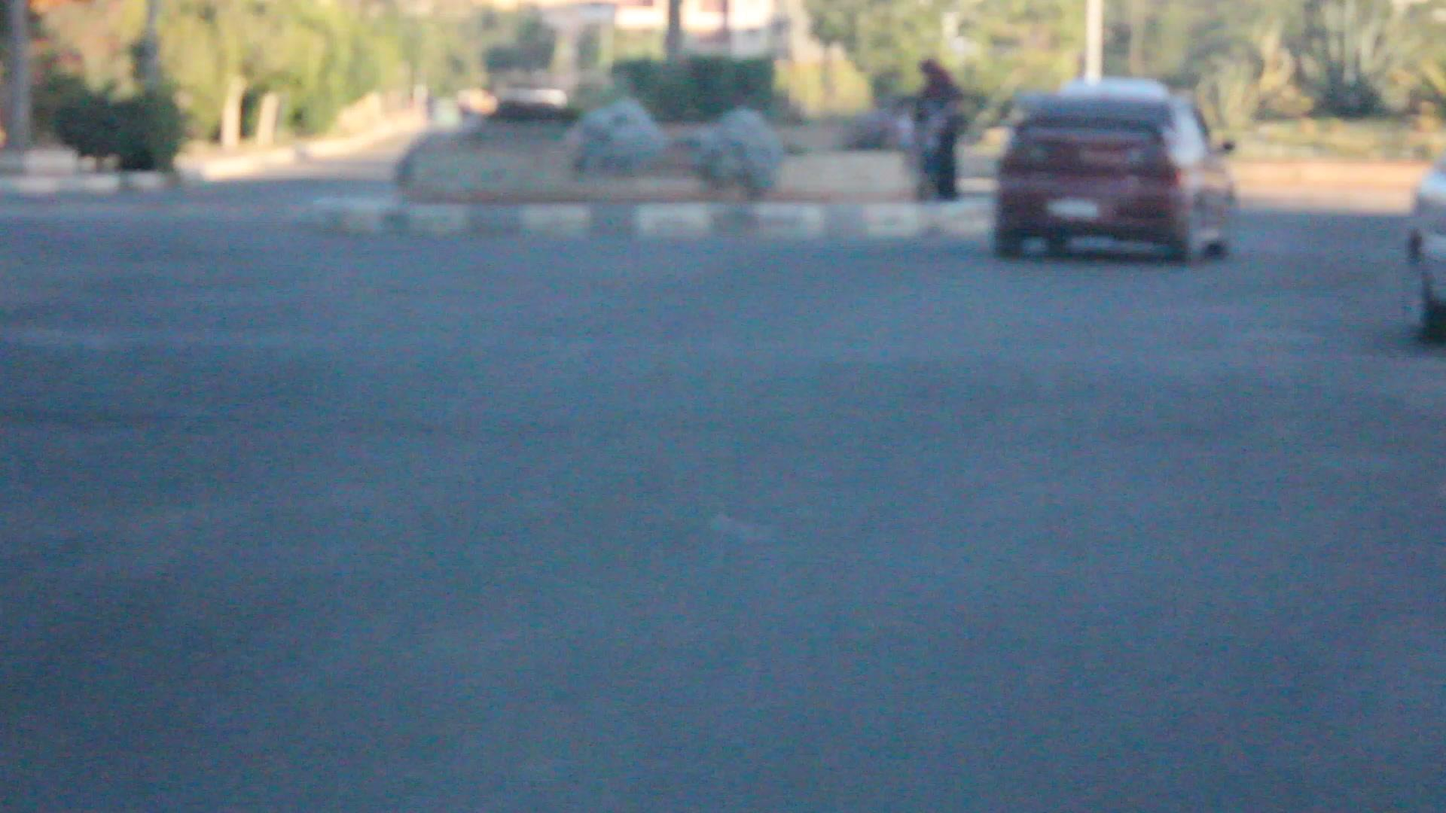Bump: (0, 320, 1446, 467)
